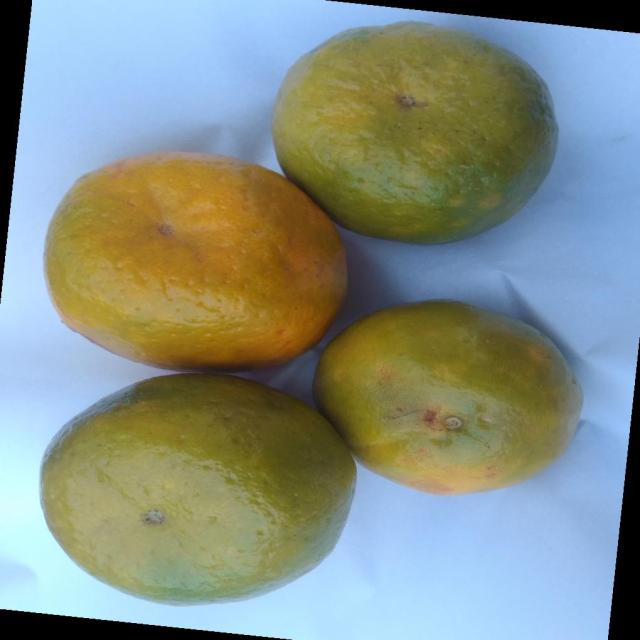fresh orange: (38, 371, 356, 606), (43, 149, 349, 371), (270, 19, 559, 245), (312, 297, 583, 496)
